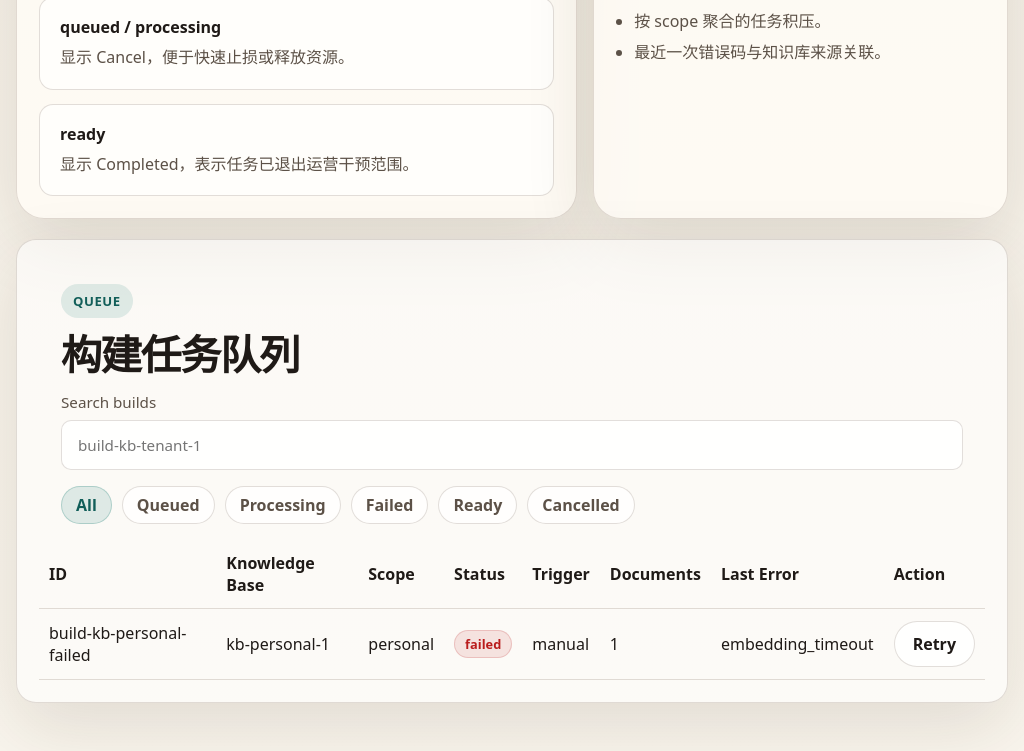
Test: retries a failed build and updates its row
(page scrolled)
Click the button "Retry". click: (934, 644)
box: [894,621,975,667]
(page scrolled)
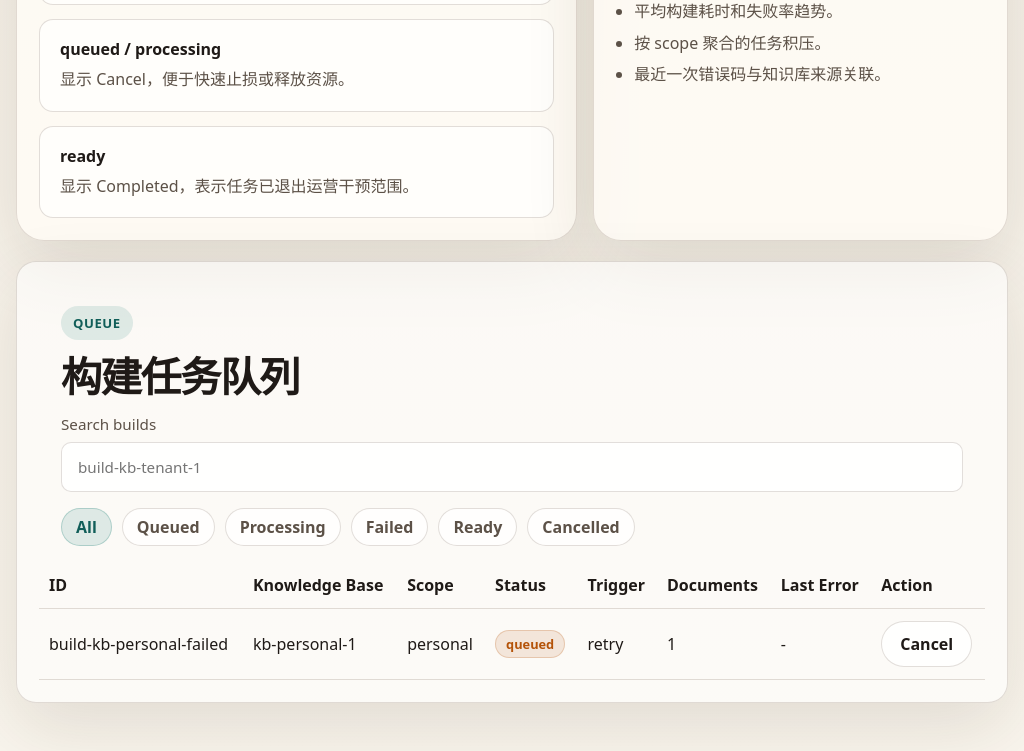
Expected: the text "queued" is shown, [495,630,565,658]
Expected: the text "retry" is shown, [577,608,657,679]
